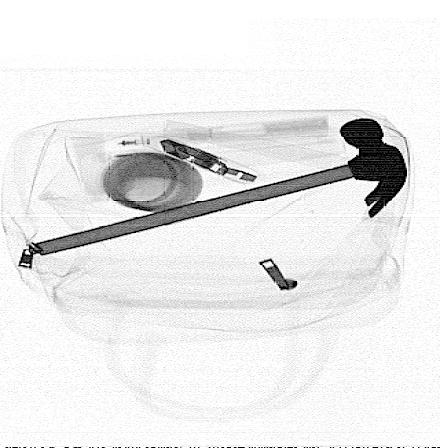Hammer: (34, 116, 410, 257)
